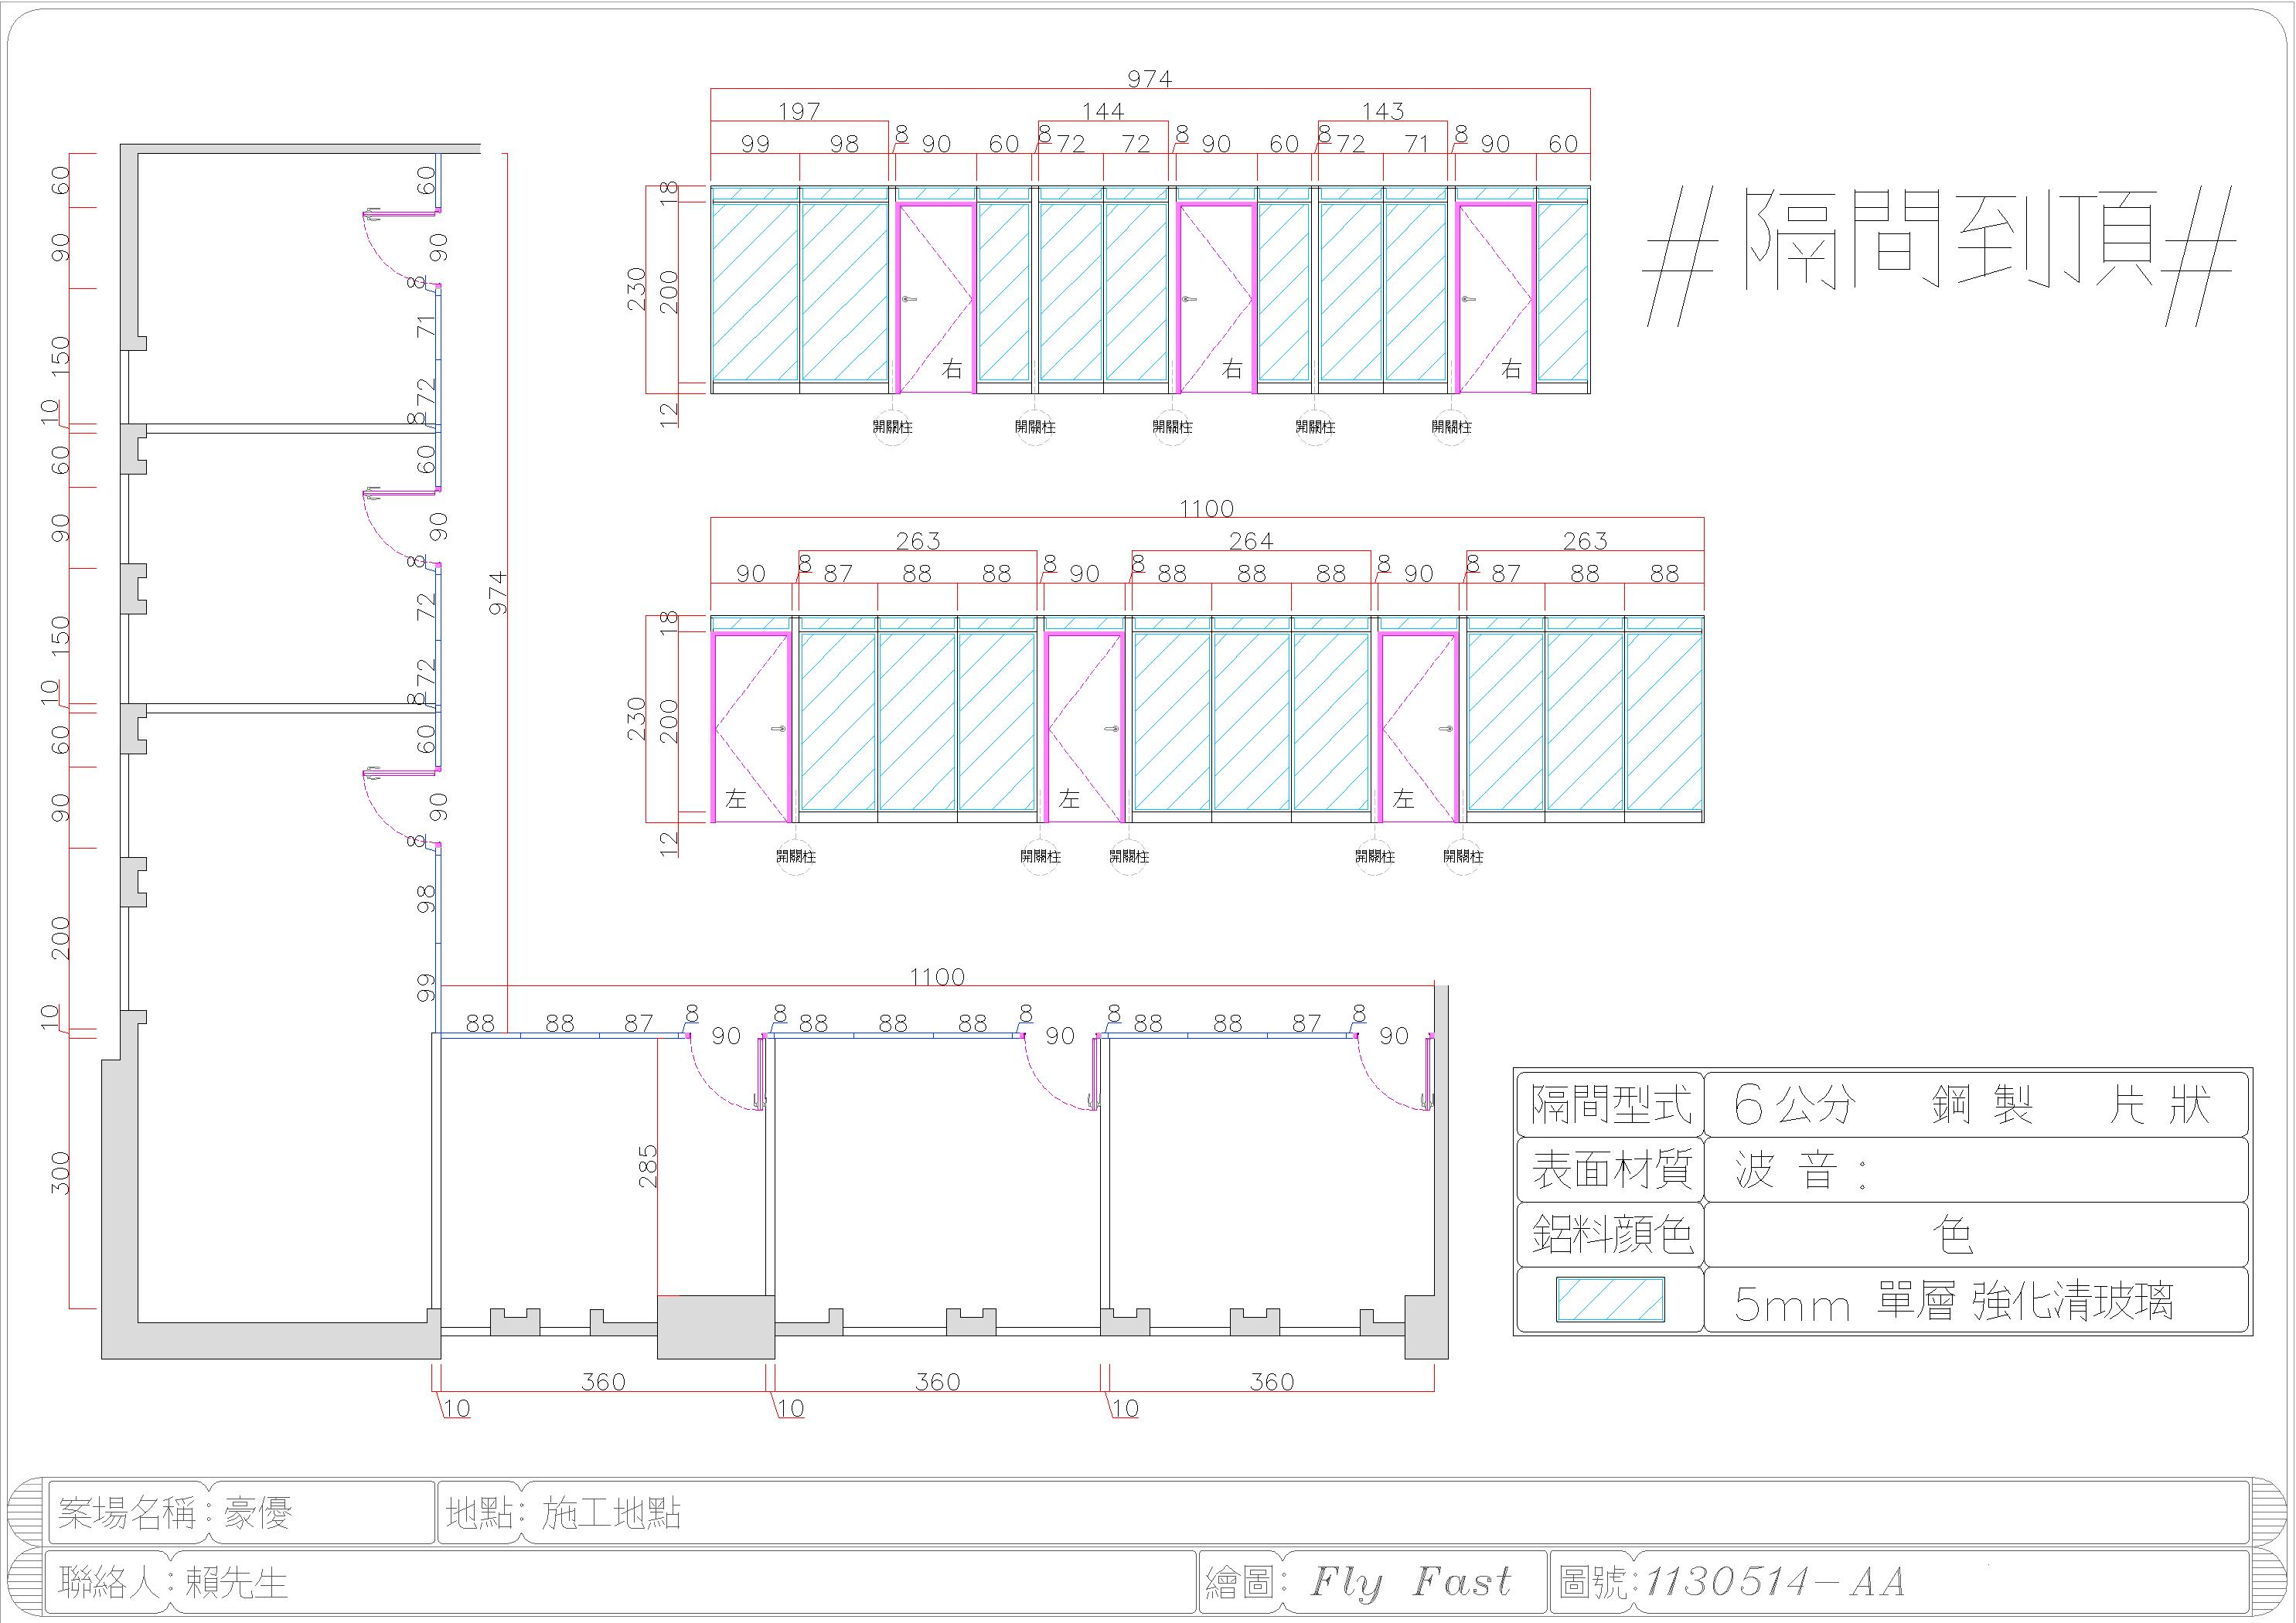SG: (877, 631, 957, 810)
